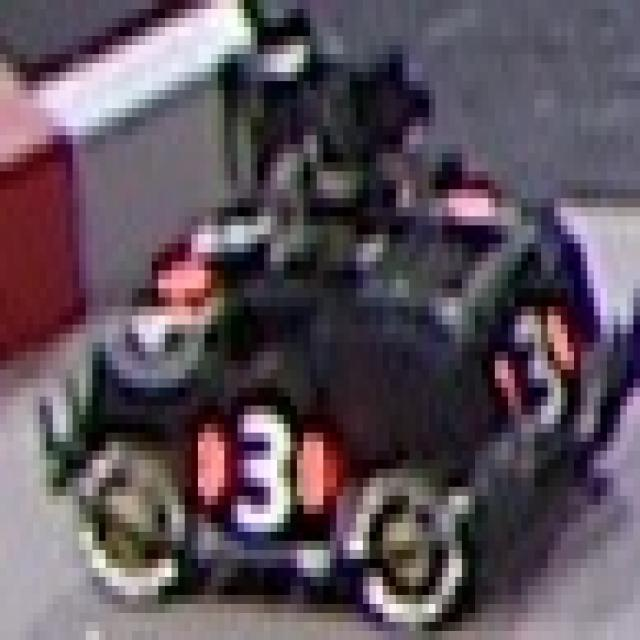R3: (185, 397, 336, 522), (132, 172, 270, 298), (482, 279, 587, 442)
